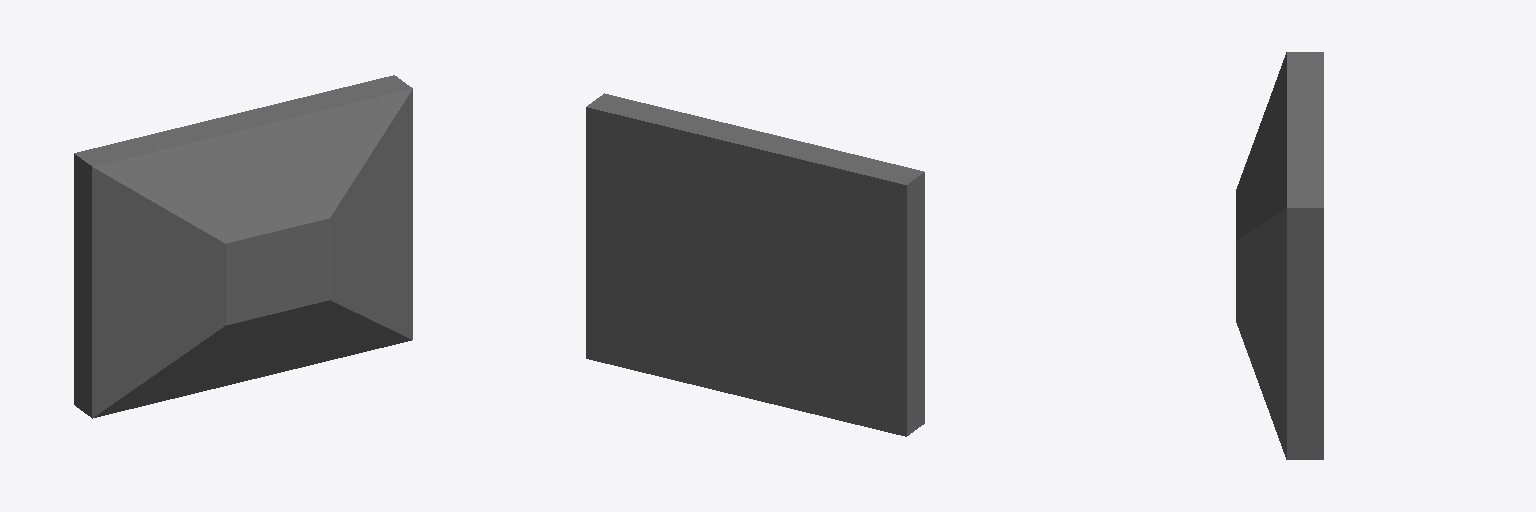
Rendered from paddle3.obj.
3 views of the same model, side by side, from view 1: azimuth 30°, elevation 25°; view 2: azimuth 150°, elevation 25°; view 3: azimuth 270°, elevation 25° (orthographic).
Visible parts, largest first — view 1: Mesh_Ball_Screen; view 2: Mesh_Ball_Screen; view 3: Mesh_Ball_Screen.
Boxes of the visible parts, box(x1,y1,x2,y2) form: Mesh_Ball_Screen: box(74, 75, 412, 418); Mesh_Ball_Screen: box(586, 93, 924, 436); Mesh_Ball_Screen: box(1236, 52, 1323, 459).
Size of the model in its own units: 1 by 0.75 by 0.2357.